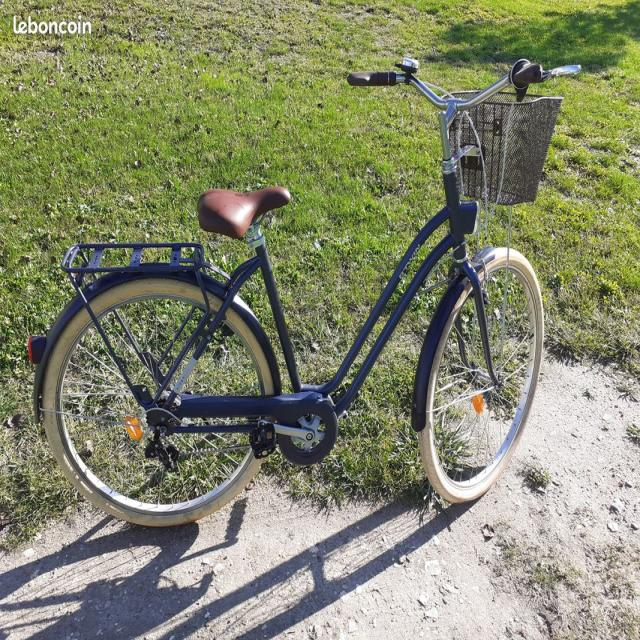Bike: (28, 59, 550, 524)
